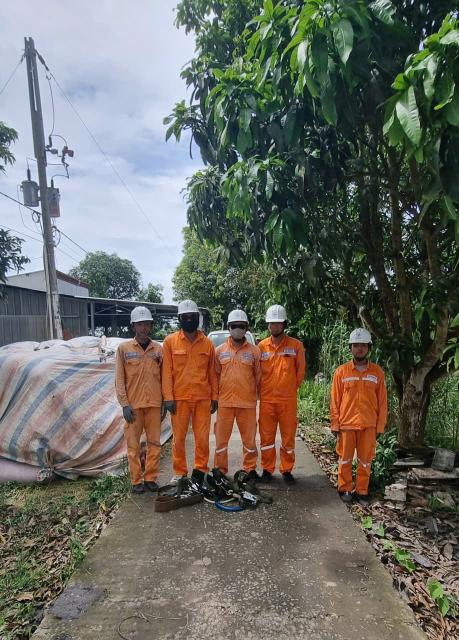gloves: (118, 402, 146, 429), (201, 397, 223, 417), (161, 395, 178, 418), (159, 397, 167, 423)
helmet: (341, 324, 375, 351), (176, 294, 200, 322), (264, 304, 293, 327), (223, 307, 256, 327), (126, 306, 160, 325)
shoes: (352, 490, 374, 511), (275, 469, 299, 488), (144, 473, 162, 496), (338, 488, 356, 506), (260, 463, 273, 485), (132, 478, 147, 497), (247, 469, 261, 484), (172, 472, 184, 489)
